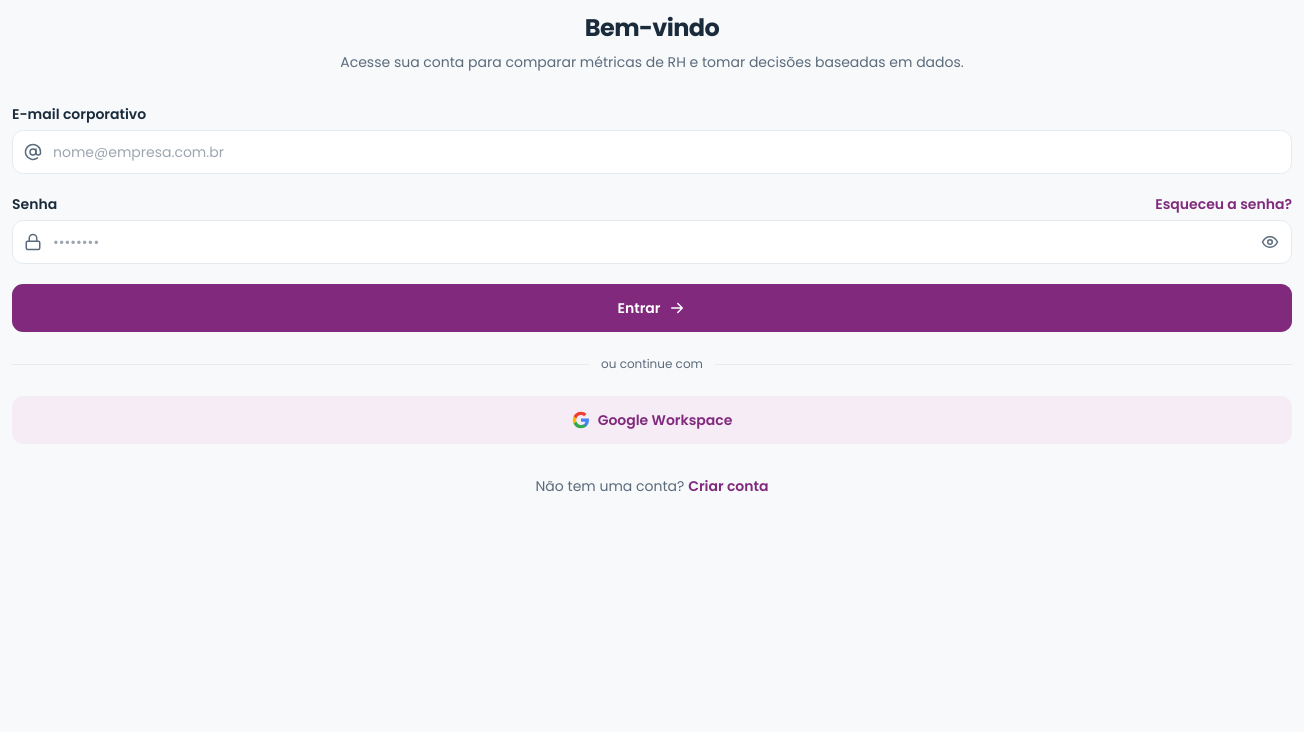
Test: SignInPage › validates the email field
The width and height of the screenshot is (1304, 732).
Type "nao-e-email" into the field labelled "E-mail corporativo" at {"x": 652, "y": 152}, box [12, 130, 1292, 174]
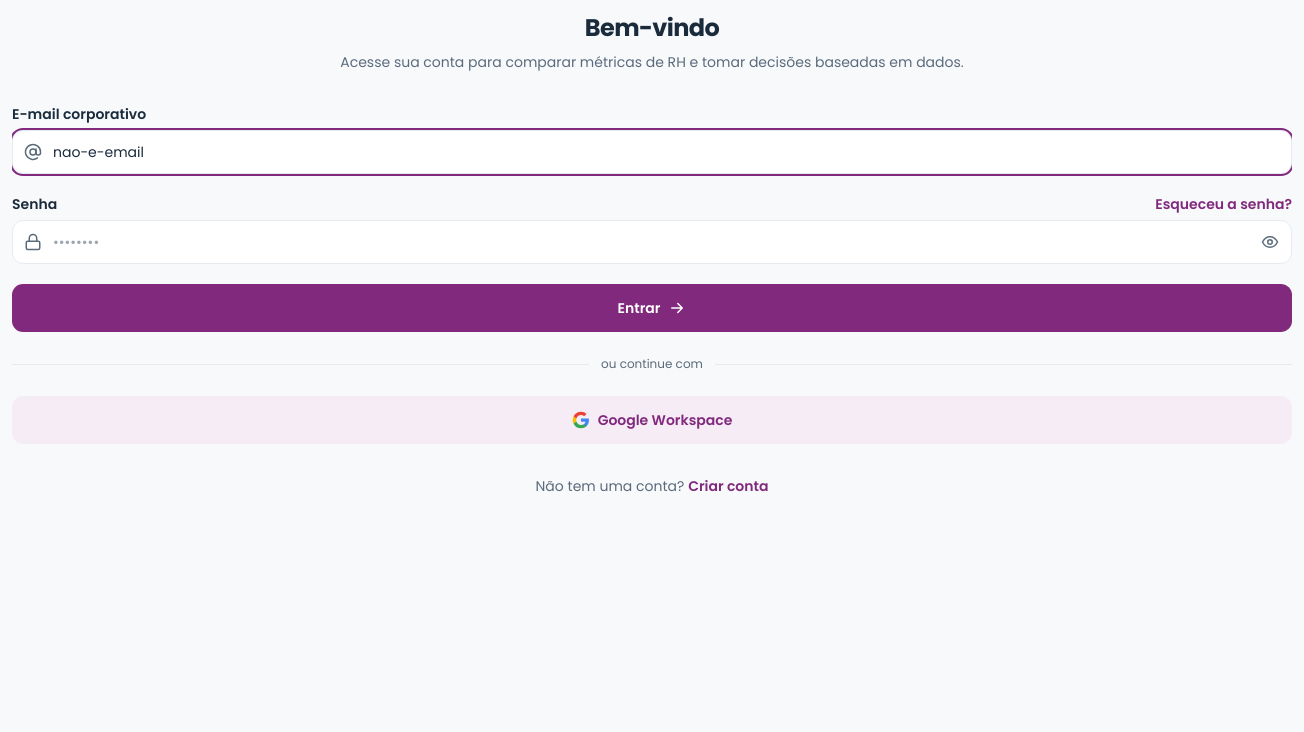
Type "123456" into the password field labelled "Senha" at {"x": 652, "y": 242}, box [12, 220, 1292, 264]
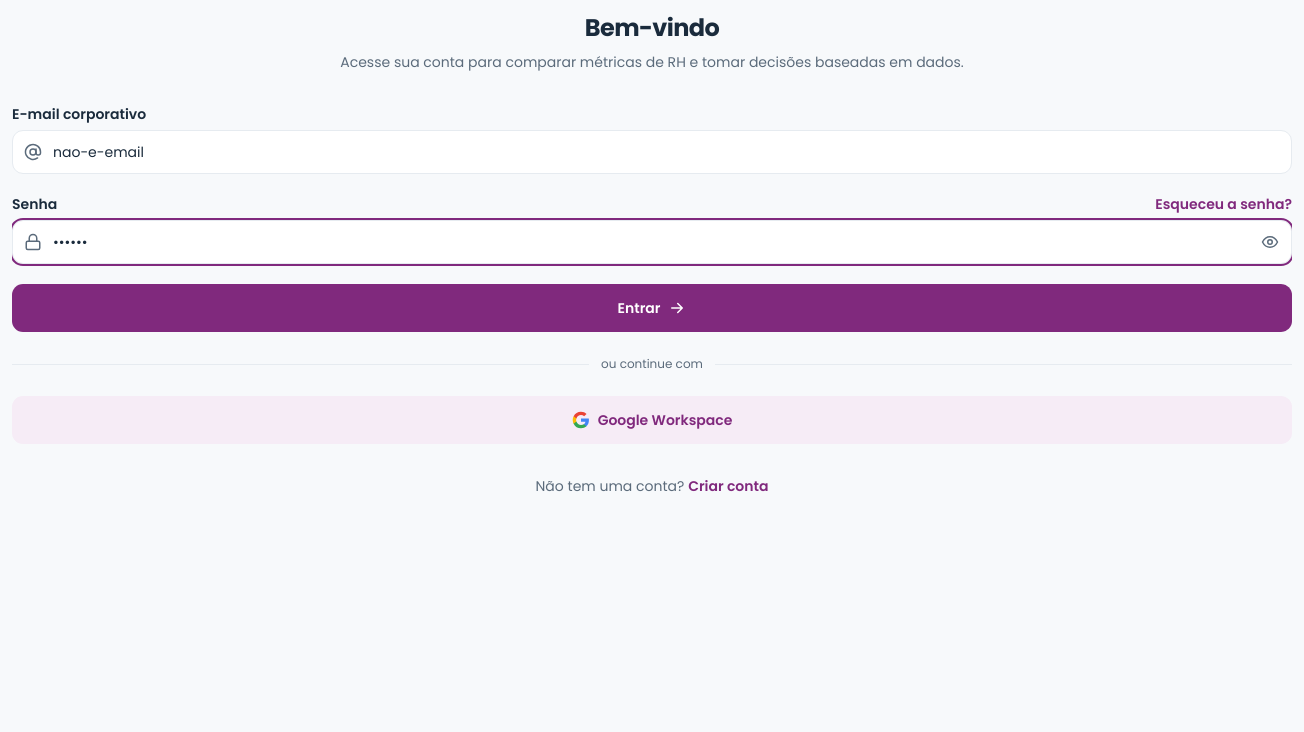
Click the button "Entrar" at {"x": 652, "y": 308}, box [12, 284, 1292, 332]
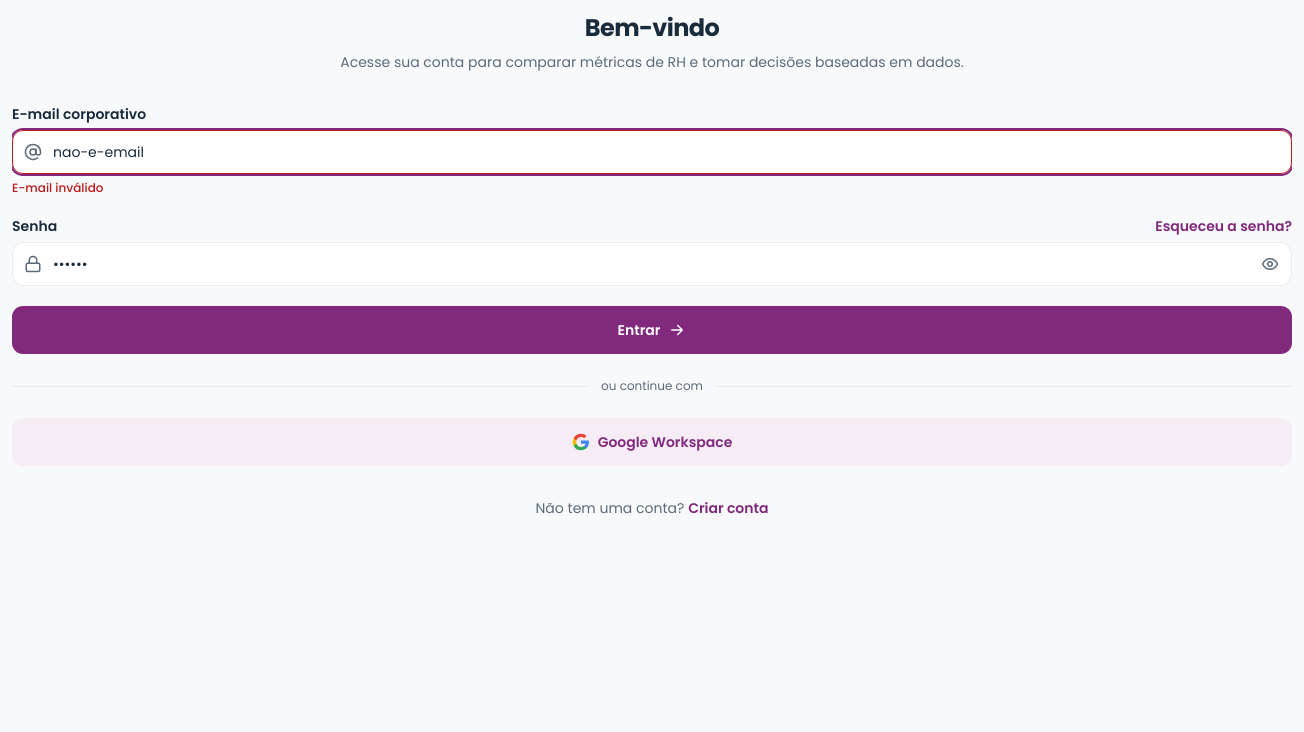
Result: the text "E-mail inválido" is shown at [12, 179, 104, 196]
